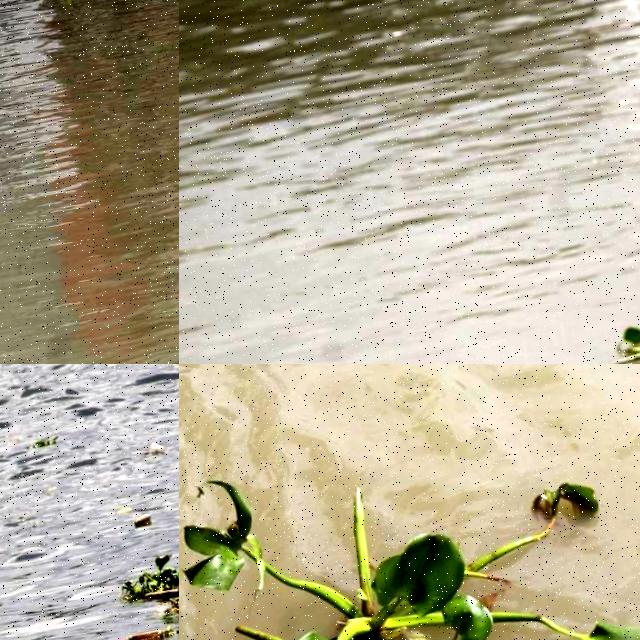water-hyacinth: (180, 414, 640, 640), (116, 513, 180, 612), (588, 264, 640, 365)
